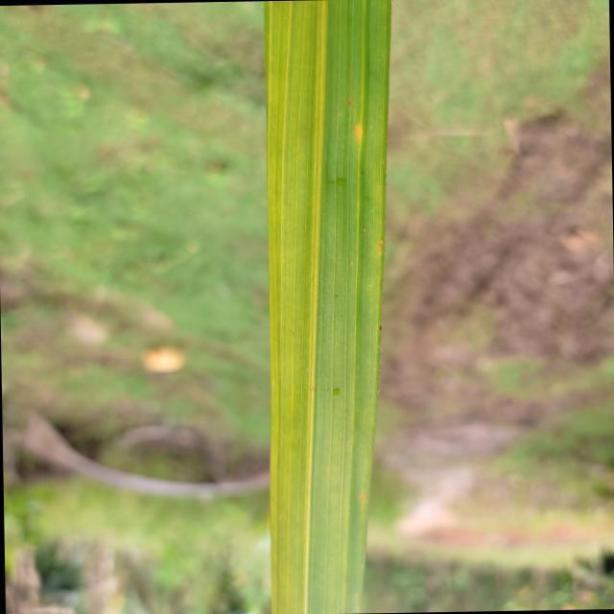nitrogen: (262, 0, 394, 614)
